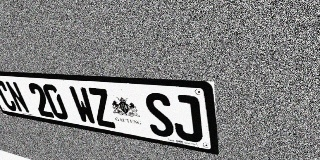0: (41, 84, 70, 121)
2: (26, 83, 55, 118)
C: (0, 80, 19, 112)
J: (170, 94, 203, 143)
N: (4, 81, 31, 114)
S: (143, 92, 176, 139)
W: (68, 86, 98, 125)
Z: (86, 87, 117, 129)
